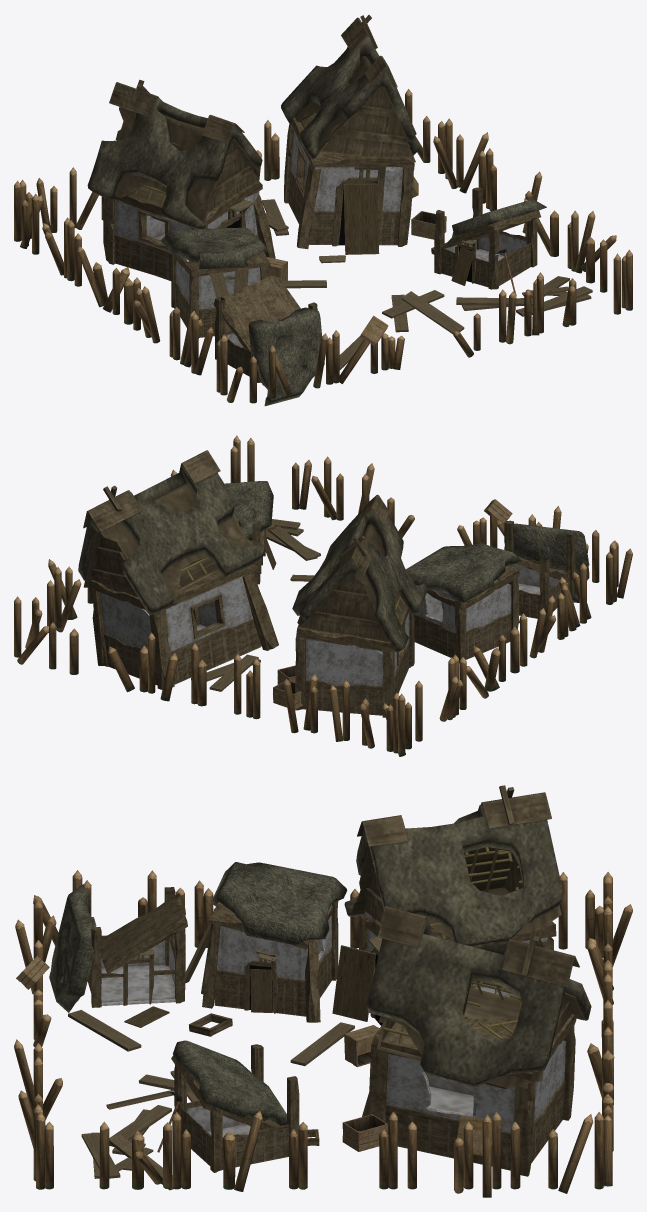
The model's file is sb_obj_outdoor010_Landmark_RuinsPovertyVillage.fbx.
The picture shows the model from 3 angles, top to bottom: view 1: azimuth 30°, elevation 25°; view 2: azimuth 150°, elevation 25°; view 3: azimuth 270°, elevation 25°; orthographic projection. The views are drawn at different scales.
Parts seen in each view (by area): view 1: sb_obj_outdoor010_Landmark_RuinsPovertyVillage; view 2: sb_obj_outdoor010_Landmark_RuinsPovertyVillage; view 3: sb_obj_outdoor010_Landmark_RuinsPovertyVillage.
Part boxes in pixels (<box>): sb_obj_outdoor010_Landmark_RuinsPovertyVillage: <box>14,15,632,406</box>; sb_obj_outdoor010_Landmark_RuinsPovertyVillage: <box>14,435,632,756</box>; sb_obj_outdoor010_Landmark_RuinsPovertyVillage: <box>14,785,632,1197</box>.
Size of the model in its own units: 2.27 by 0.9435 by 2.22.
